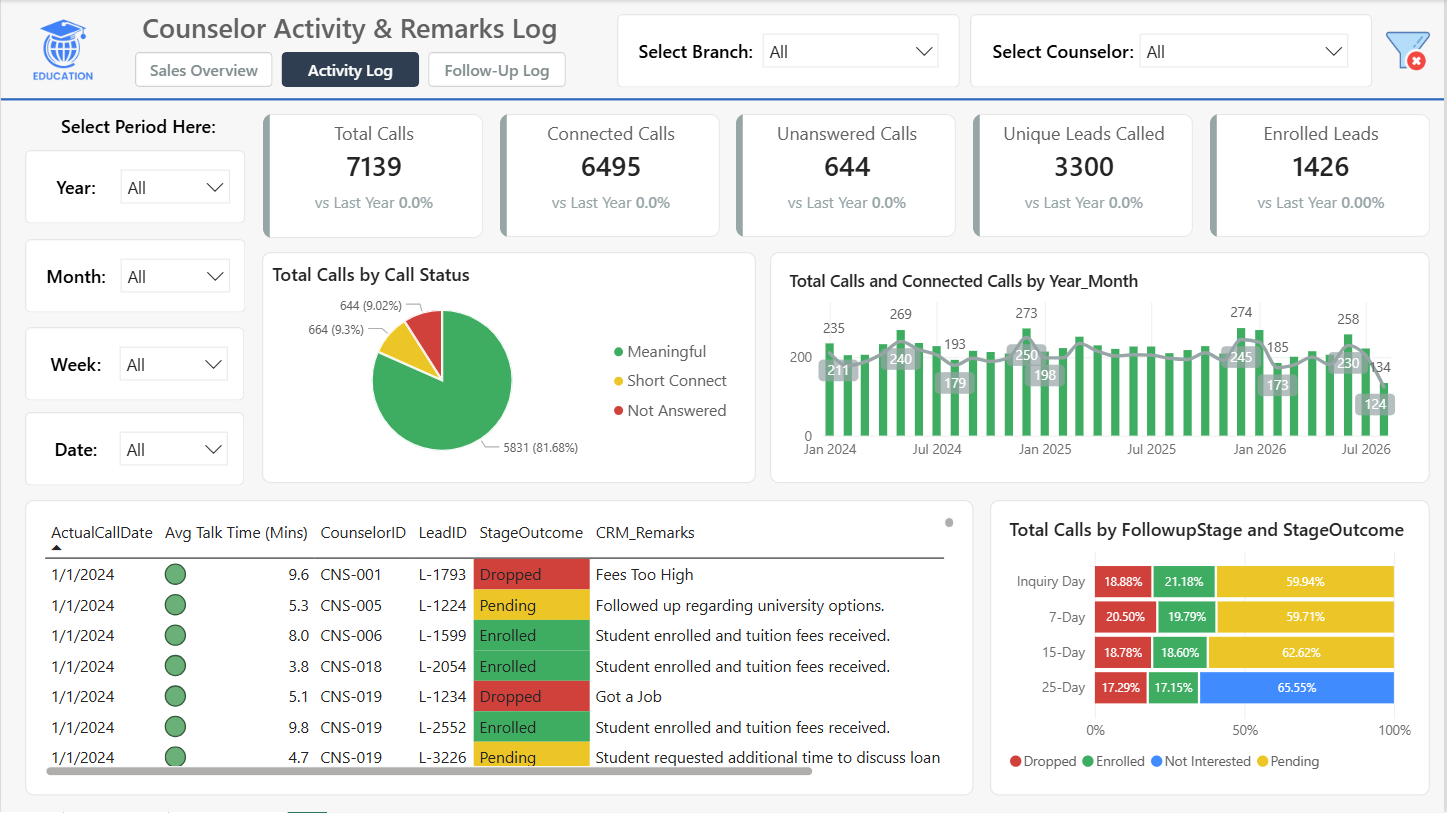

This screenshot's page, from the dashboard's own definition file:
{"tool":"powerbi","page":{"name":"Activity Log","canvas":[1280,720],"ordinal":1},"visuals":[{"type":"shape","box":[0.3,38,1280,99.9],"z":0},{"type":"cardVisual","fields":{"Data":["Key Measures.Total Calls"]},"box":[232.3,101.1,195,110.3],"z":1000},{"type":"group","id":"g1","title":"Group 1","box":[545.8,12.4,304.1,65.6],"z":2000},{"type":"group","id":"g2","title":"Group 1","box":[858.8,12.4,356.5,65.6],"z":3000},{"type":"group","id":"g3","title":"Group 1","box":[21,133.1,195.1,65],"z":4000},{"type":"image","box":[1227.7,20.9,39.5,47.6],"z":5000},{"type":"shape","box":[545.8,12.4,304,65.3],"z":5500,"group":"g1"},{"type":"shape","box":[858.8,12.4,356.6,65.3],"z":5500,"group":"g2"},{"type":"shape","box":[21,133.1,195.2,65.3],"z":5500,"group":"g3"},{"type":"shape","box":[21,212.1,195.5,65.3],"z":5500,"group":"g4"},{"type":"shape","box":[21,289.9,194.3,65.3],"z":5500,"group":"g5"},{"type":"shape","box":[21,365.4,194.3,65.3],"z":5500,"group":"g6"},{"type":"slicer","fields":{"Values":["dim_branches_master.Branch_Name"]},"box":[669.7,24.9,166.4,41.7],"z":6000,"group":"g1"},{"type":"slicer","fields":{"Values":["dim_staff_master.Name"]},"box":[1004.1,24.9,195.2,41.7],"z":6000,"group":"g2"},{"type":"cardVisual","fields":{"Data":["Key Measures.Connected Calls"]},"box":[442.2,101.1,195,109.2],"z":6000},{"type":"slicer","fields":{"Values":["dim_year_slicer.Year"]},"box":[100.5,145.6,106.8,41.7],"z":6000,"group":"g3"},{"type":"slicer","fields":{"Values":["dim_date_2024_2025.Month Year"]},"box":[100.6,224.6,107,41.7],"z":6000,"group":"g4"},{"type":"slicer","fields":{"Values":["dim_date_2024_2025.Monthly Week"]},"box":[100.2,302.4,106.4,41.7],"z":6000,"group":"g5"},{"type":"slicer","fields":{"Values":["dim_date_2024_2025.Date"]},"box":[100.2,377.9,106.4,41.7],"z":6000,"group":"g6"},{"type":"cardVisual","fields":{"Data":["Key Measures.Unique Leads Called"]},"box":[862,101.1,195,109.2],"z":7000},{"type":"cardVisual","fields":{"Data":["Key Measures.Unanswered Calls"]},"box":[652.1,101.1,195,109.2],"z":8000},{"type":"textbox","box":[562.1,34.6,107.6,20.8],"z":9000,"group":"g1"},{"type":"textbox","box":[877.9,34.6,126.2,20.8],"z":9000,"group":"g2"},{"type":"cardVisual","fields":{"Data":["Key Measures.Enrolled Leads"]},"box":[1071.9,101.1,195,109.2],"z":9000},{"type":"textbox","box":[31.4,155.3,69.1,20.8],"z":9000,"group":"g3"},{"type":"textbox","box":[31.5,234.3,69.2,20.8],"z":9000,"group":"g4"},{"type":"textbox","box":[31.4,312.1,68.8,20.8],"z":9000,"group":"g5"},{"type":"textbox","box":[31.4,387.6,68.8,20.8],"z":9000,"group":"g6"},{"type":"group","id":"g4","title":"Group 1","box":[21,212.1,195.1,66.2],"z":10000},{"type":"group","id":"g5","title":"Group 1","box":[21,289.9,195.1,66.2],"z":11000},{"type":"group","id":"g6","title":"Group 1","box":[21,365.4,195.1,66.2],"z":12000},{"type":"pieChart","fields":{"Category":["fact_followups_telecom_final.Call Status"],"Y":["Key Measures.Total Calls"]},"box":[231.8,223.7,438.4,204.6],"z":13000},{"type":"textbox","box":[53.4,101.1,145.2,27.9],"z":14000},{"type":"image","box":[0,0,109.3,88.2],"z":15000},{"type":"textbox","box":[118.9,8.1,381,34.3],"z":16000},{"type":"lineClusteredColumnComboChart","fields":{"Category":["dim_date_2024_2025.Year_Month","dim_date_2024_2025.Monthly Week","dim_date_2024_2025.Date"],"Y":["Key Measures.Total Calls"],"Y2":["Key Measures.Connected Calls"]},"box":[681.9,223.4,585.2,204.8],"z":17000},{"type":"tableEx","fields":{"Values":["fact_followups_telecom_final.ActualCallDate","Key Measures.Avg Talk Time (Mins)","fact_followups_telecom_final.CounselorID","fact_followups_telecom_final.LeadID","fact_followups_telecom_final.StageOutcome","fact_followups_telecom_final.CRM_Remarks"]},"box":[21.3,443.3,840.6,262.5],"z":18000},{"type":"hundredPercentStackedBarChart","fields":{"Category":["fact_followups_telecom_final.FollowupStage"],"Series":["fact_followups_telecom_final.StageOutcome"],"Y":["Key Measures.Total Calls"]},"box":[876.9,443.3,390.1,262.5],"z":19000},{"type":"pageNavigator","box":[118.8,46.1,383.9,31.9],"z":19001}]}

Visuals, with their boxes in screenshot pixels (x1, y1, x2, y2), scaled from the page's 1280x720 canvas onto the 1447x813 screenshot:
shape: left=0, top=43, right=1446, bottom=156
cardVisual - Key Measures.Total Calls: left=263, top=114, right=483, bottom=239
"Group 1" group: left=617, top=14, right=961, bottom=88
"Group 1" group: left=971, top=14, right=1374, bottom=88
"Group 1" group: left=24, top=150, right=244, bottom=224
image: left=1388, top=24, right=1433, bottom=77
shape: left=617, top=14, right=961, bottom=88
shape: left=971, top=14, right=1374, bottom=88
shape: left=24, top=150, right=244, bottom=224
shape: left=24, top=239, right=245, bottom=313
shape: left=24, top=327, right=243, bottom=401
shape: left=24, top=413, right=243, bottom=486
slicer - dim_branches_master.Branch_Name: left=757, top=28, right=945, bottom=75
slicer - dim_staff_master.Name: left=1135, top=28, right=1356, bottom=75
cardVisual - Key Measures.Connected Calls: left=500, top=114, right=720, bottom=237
slicer - dim_year_slicer.Year: left=114, top=164, right=234, bottom=211
slicer - dim_date_2024_2025.Month Year: left=114, top=254, right=235, bottom=301
slicer - dim_date_2024_2025.Monthly Week: left=113, top=341, right=234, bottom=389
slicer - dim_date_2024_2025.Date: left=113, top=427, right=234, bottom=474
cardVisual - Key Measures.Unique Leads Called: left=974, top=114, right=1195, bottom=237
cardVisual - Key Measures.Unanswered Calls: left=737, top=114, right=958, bottom=237
textbox: left=635, top=39, right=757, bottom=63
textbox: left=992, top=39, right=1135, bottom=63
cardVisual - Key Measures.Enrolled Leads: left=1212, top=114, right=1432, bottom=237
textbox: left=35, top=175, right=114, bottom=199
textbox: left=36, top=265, right=114, bottom=288
textbox: left=35, top=352, right=113, bottom=376
textbox: left=35, top=438, right=113, bottom=461
"Group 1" group: left=24, top=239, right=244, bottom=314
"Group 1" group: left=24, top=327, right=244, bottom=402
"Group 1" group: left=24, top=413, right=244, bottom=487
pieChart - fact_followups_telecom_final.Call Status x Key Measures.Total Calls: left=262, top=253, right=758, bottom=484
textbox: left=60, top=114, right=225, bottom=146
image: left=0, top=0, right=124, bottom=100
textbox: left=134, top=9, right=565, bottom=48
lineClusteredColumnComboChart - dim_date_2024_2025.Year_Month x dim_date_2024_2025.Monthly Week: left=771, top=252, right=1432, bottom=484
tableEx - fact_followups_telecom_final.ActualCallDate x Key Measures.Avg Talk Time (Mins): left=24, top=501, right=974, bottom=797
hundredPercentStackedBarChart - fact_followups_telecom_final.FollowupStage x fact_followups_telecom_final.StageOutcome: left=991, top=501, right=1432, bottom=797
pageNavigator: left=134, top=52, right=568, bottom=88
